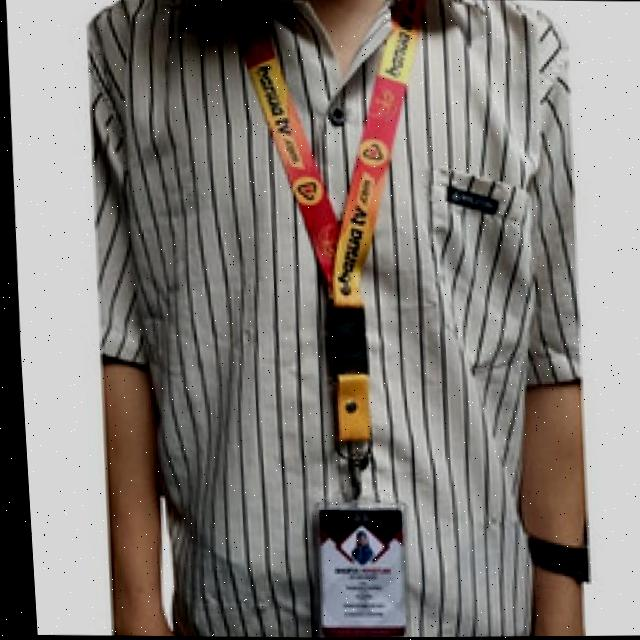id_card: (227, 5, 439, 638)
